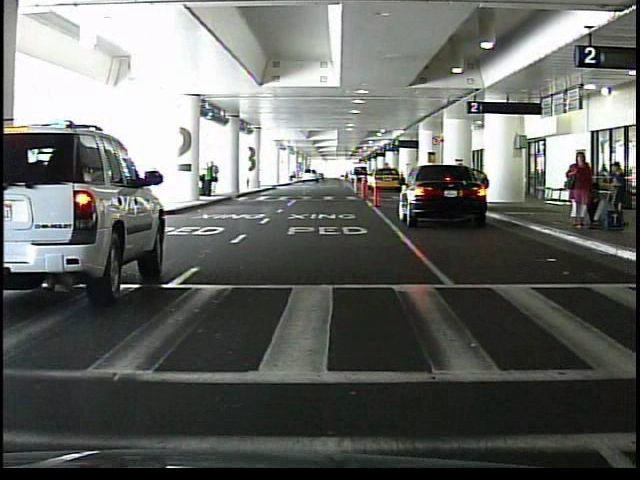person: (564, 152, 597, 228), (602, 161, 625, 228), (579, 157, 590, 203), (201, 161, 214, 198), (211, 161, 220, 196)
